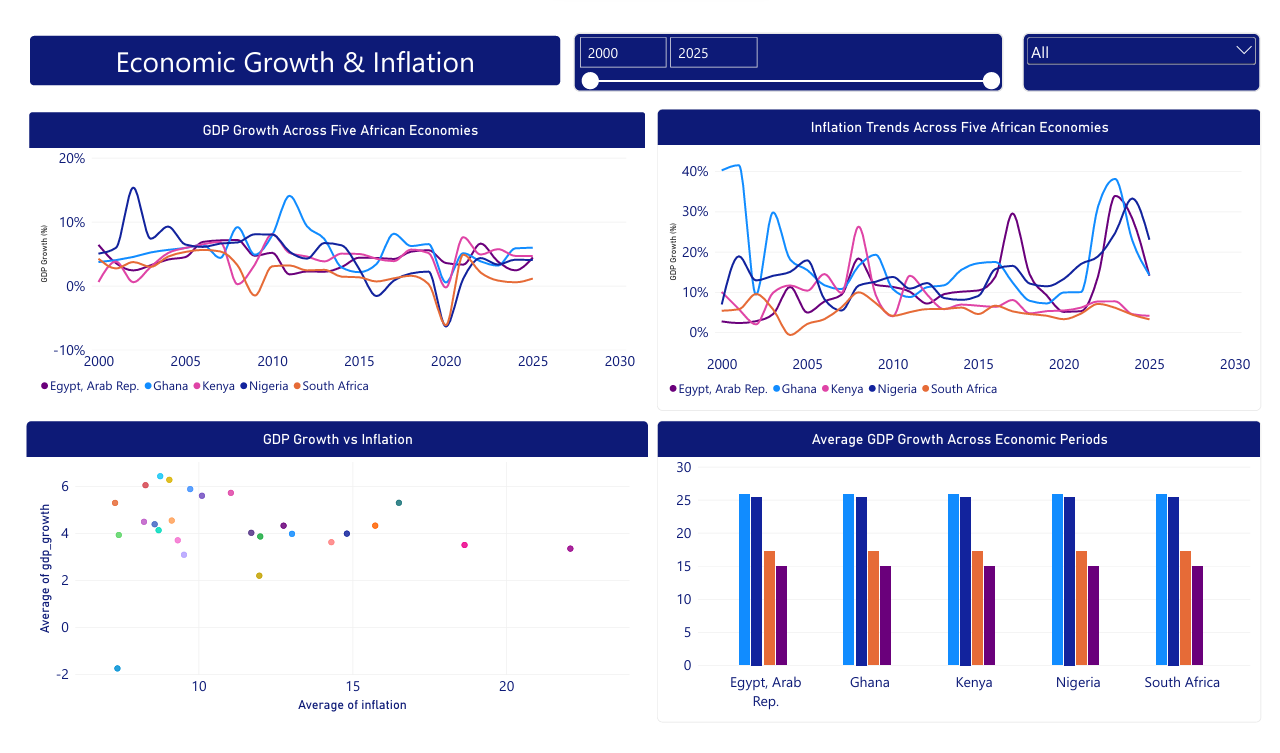

The dashboard page shown, as its layout file describes it:
{"tool":"powerbi","page":{"name":"Economic Growth & Inflation","canvas":[1920,1080],"ordinal":1},"visuals":[{"type":"lineChart","title":"GDP Growth Across Five African Economies","fields":{"Category":["african_economic_indicators.year"],"Series":["african_economic_indicators.country"],"Y":["african_economic_indicators.Average GDP Growth"]},"box":[15.1,133.9,943.9,457.9],"z":0},{"type":"lineChart","title":"Inflation Trends Across Five African Economies","fields":{"Category":["african_economic_indicators.year"],"Series":["african_economic_indicators.country"],"Y":["african_economic_indicators.Average Inflation"]},"box":[972,133.9,915.8,457.9],"z":1000},{"type":"scatterChart","title":"GDP Growth vs Inflation","fields":{"Category":["african_economic_indicators.country","african_economic_indicators.year"],"X":["Avg(african_economic_indicators.inflation)"],"Y":["Avg(african_economic_indicators.gdp_growth)"]},"box":[15.1,607,943.9,457.9],"z":2000},{"type":"shape","box":[17.3,19.4,812.2,82.1],"z":3000},{"type":"clusteredColumnChart","title":"Average GDP Growth Across Economic Periods","fields":{"Category":["african_economic_indicators.country"],"Y":["Sum(GDP_Growth_Periods.2000 - 2007)","Sum(GDP_Growth_Periods.2008 - 2013)","Sum(GDP_Growth_Periods.2014 - 2019)","Sum(GDP_Growth_Periods.2020 - 2025)"]},"box":[972,607,915.8,457.9],"z":4000},{"type":"slicer","fields":{"Values":["african_economic_indicators.year"]},"box":[845.1,18.5,652.3,89.8],"z":5000},{"type":"slicer","fields":{"Values":["african_economic_indicators.country"]},"box":[1526.5,18.5,361,89.8],"z":6000}]}

Visuals, with their boxes on the page's 1920x1080 design canvas (x1, y1, x2, y2). These are canvas units, not pixel positions in the 1280x753 screenshot, which may show the page scaled, cropped or inside an application window:
"GDP Growth Across Five African Economies" lineChart: 15, 134, 959, 592
"Inflation Trends Across Five African Economies" lineChart: 972, 134, 1888, 592
"GDP Growth vs Inflation" scatterChart: 15, 607, 959, 1065
shape: 17, 19, 830, 102
"Average GDP Growth Across Economic Periods" clusteredColumnChart: 972, 607, 1888, 1065
slicer - african_economic_indicators.year: 845, 18, 1497, 108
slicer - african_economic_indicators.country: 1526, 18, 1888, 108
